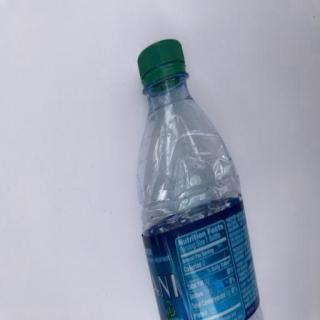Plastic-bottle: (136, 38, 266, 320)
